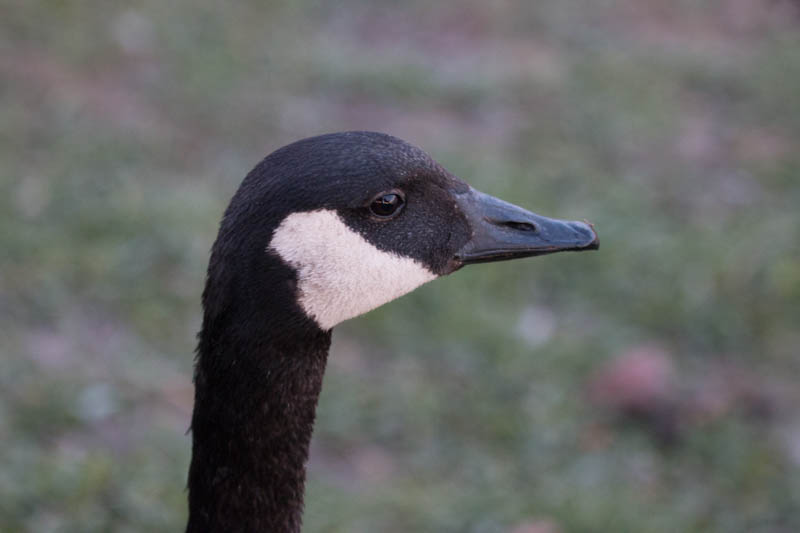goose-head: (200, 131, 601, 331)
